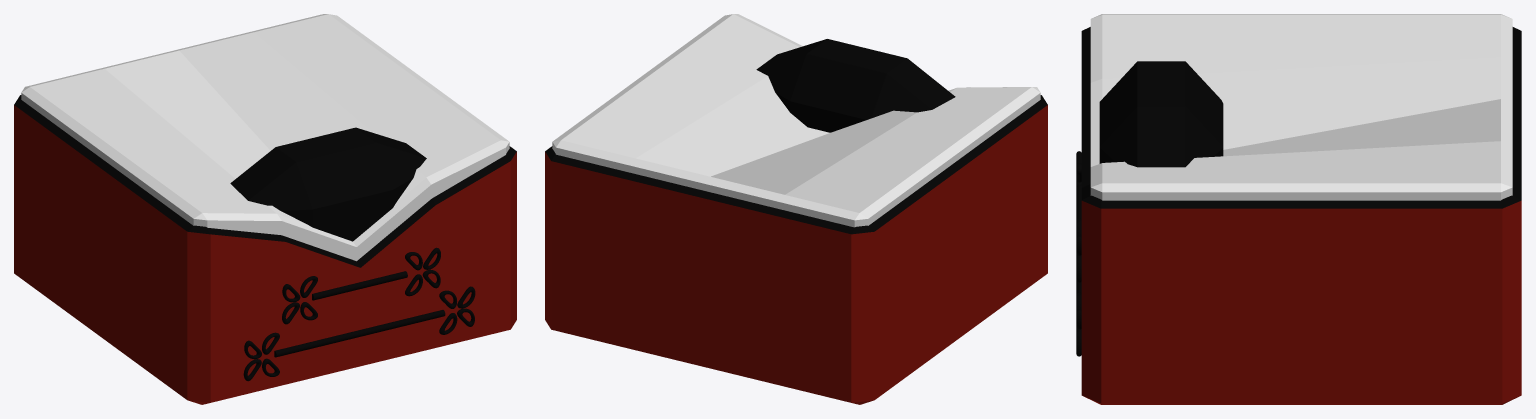
The model's file is BoojeeRobe.fbx.
The picture shows the model from 3 angles, left to right: view 1: azimuth 30°, elevation 25°; view 2: azimuth 150°, elevation 25°; view 3: azimuth 270°, elevation 25°; orthographic projection. The views are drawn at different scales.
Parts seen in each view (by area): view 1: Torus.001; view 2: Torus.001; view 3: Torus.001.
Boxes of the visible parts, left/top/right/bottom form: Torus.001: left=14, top=14, right=516, bottom=404; Torus.001: left=545, top=14, right=1047, bottom=404; Torus.001: left=1076, top=14, right=1521, bottom=404.
Bounding box in the file's own units: 224 × 133 × 227.
